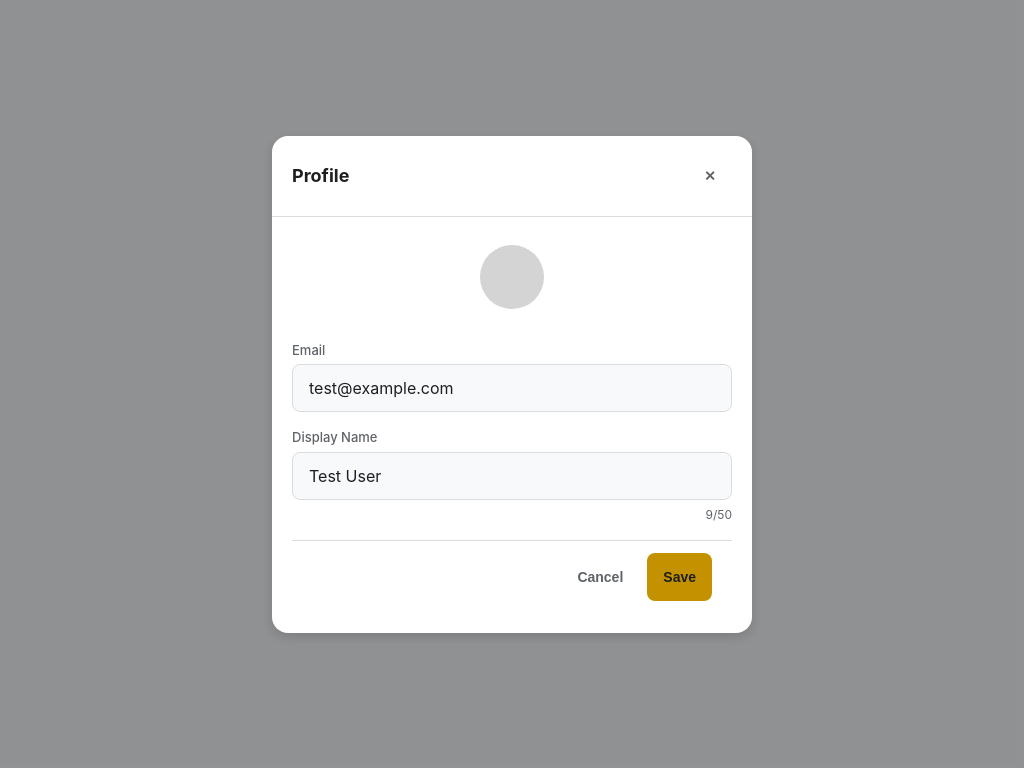
Test: ProfileDialog (Issue #40) › AC4: Display name validation › shows error for empty name
Clear the field labelled "Display Name" at coordinates (512, 476), box [292,452,732,500]
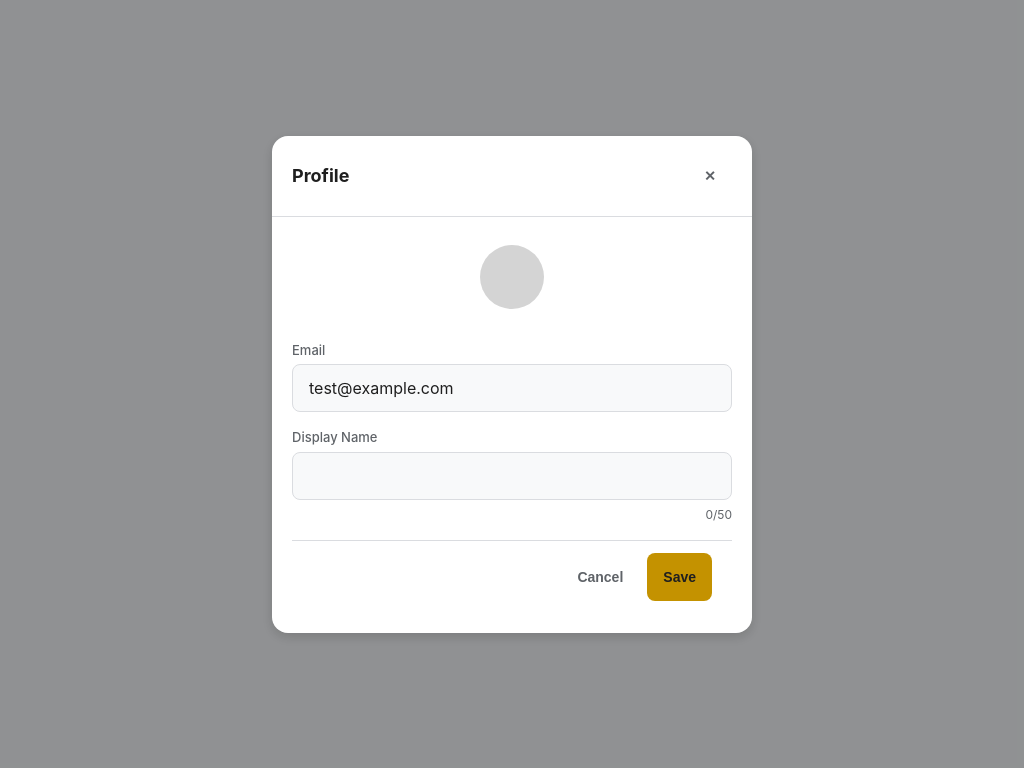
Submit the form, box [272,216,752,632]
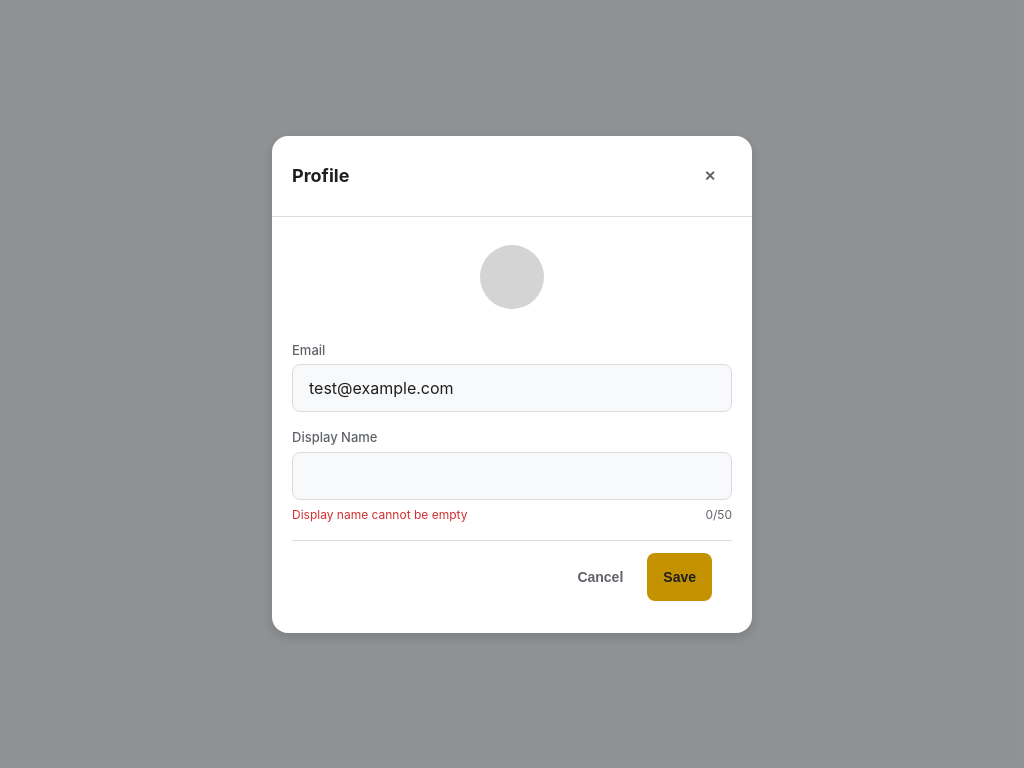
Expected: the message "Display name cannot be empty" is shown, [292,506,467,524]
